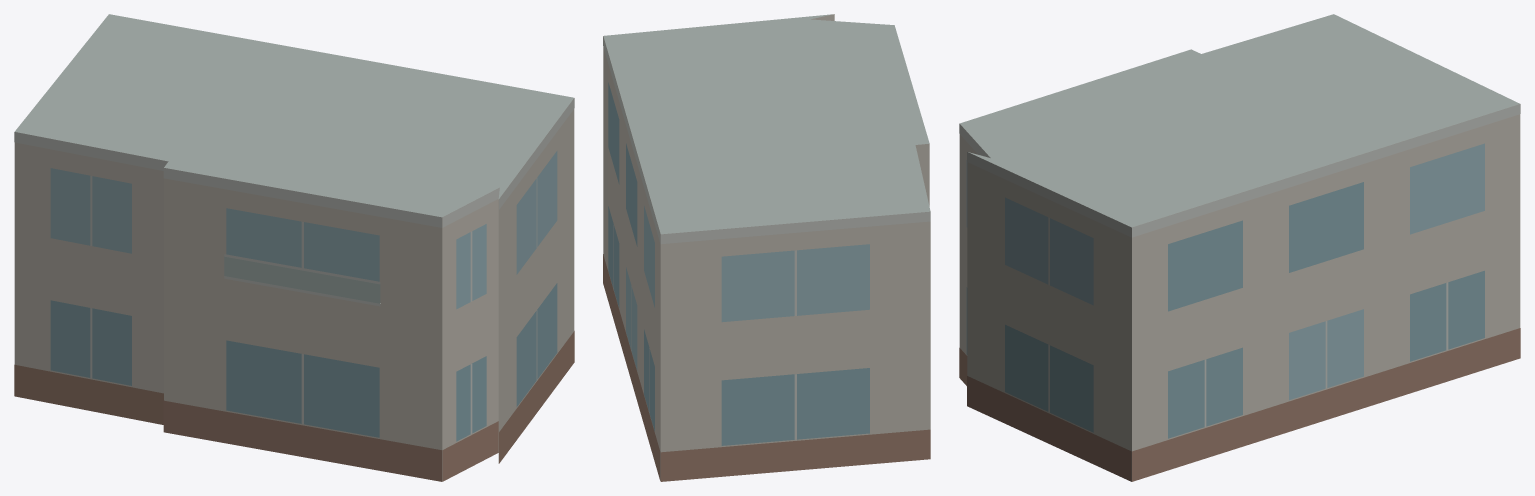
Rendered from survey-upis-32997553.glb.
3 views of the same model, side by side, from view 1: azimuth 30°, elevation 25°; view 2: azimuth 150°, elevation 25°; view 3: azimuth 270°, elevation 25° (orthographic). The views are drawn at different scales.
Visible parts, largest first — view 1: survey-upis-32997553.tmp; view 2: survey-upis-32997553.tmp; view 3: survey-upis-32997553.tmp.
Boxes of the visible parts, x1,y1,x2,y2 form: survey-upis-32997553.tmp: (14,14,574,481); survey-upis-32997553.tmp: (603,14,930,481); survey-upis-32997553.tmp: (959,14,1520,481).
Bounding box in the file's own units: 10.99 × 6.1 × 12.2.
